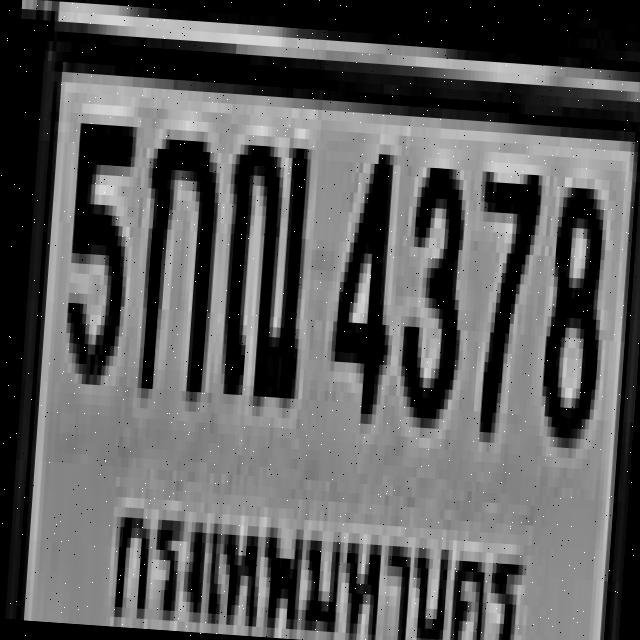10GorGai: (133, 118, 219, 392)
28NorNen: (215, 124, 309, 398)
3: (394, 156, 468, 419)
4: (323, 141, 398, 414)
5: (59, 112, 133, 376)
7: (464, 161, 539, 434)
8: (535, 176, 606, 439)
Bangkok: (102, 474, 532, 640)
